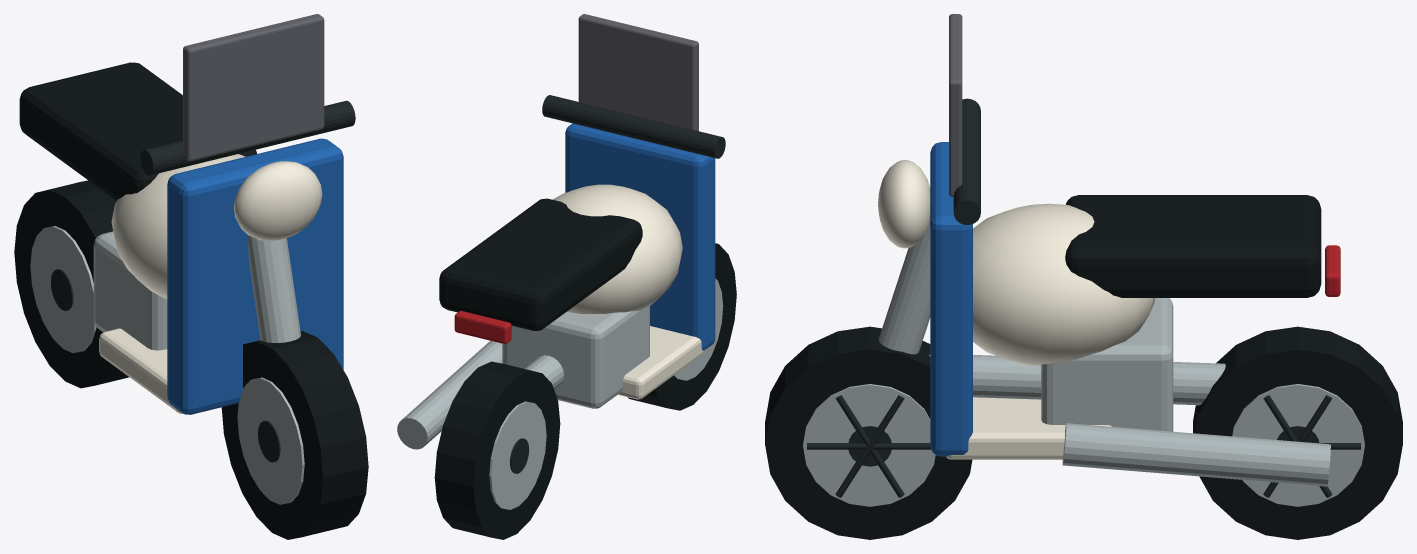
The model's file is best.glb.
3 renders of one model, left to right at view 1: azimuth 30°, elevation 25°; view 2: azimuth 150°, elevation 25°; view 3: azimuth 270°, elevation 25°, orthographic. The views are drawn at different scales.
Parts seen in each view (by area): view 1: Saddle, Scooter apron, Engine, Windshield, Footboard, Handlebar; view 2: Saddle, Engine, Scooter apron, Footboard, Windshield, Handlebar, Rear light; view 3: Saddle, Engine, Footboard, Scooter apron, Handlebar, Windshield, Rear light.
Part boxes in pixels (x1=…): Saddle: x1=14, y1=62, x2=368, y2=539; Scooter apron: x1=167, y1=138, x2=343, y2=414; Engine: x1=30, y1=226, x2=304, y2=504; Windshield: x1=183, y1=14, x2=324, y2=161; Footboard: x1=99, y1=154, x2=322, y2=413; Handlebar: x1=51, y1=100, x2=355, y2=462; Saddle: x1=434, y1=198, x2=736, y2=539; Engine: x1=397, y1=278, x2=723, y2=509; Scooter apron: x1=565, y1=123, x2=715, y2=350; Footboard: x1=552, y1=184, x2=709, y2=399; Windshield: x1=578, y1=14, x2=698, y2=131; Handlebar: x1=510, y1=95, x2=725, y2=473; Rear light: x1=454, y1=311, x2=511, y2=343; Saddle: x1=765, y1=195, x2=1402, y2=539; Engine: x1=803, y1=216, x2=1364, y2=506; Footboard: x1=878, y1=160, x2=1155, y2=459; Scooter apron: x1=930, y1=142, x2=972, y2=456; Handlebar: x1=807, y1=98, x2=1360, y2=497; Windshield: x1=949, y1=14, x2=962, y2=196; Rear light: x1=1325, y1=245, x2=1340, y2=296.
Bounding box in the file's own units: 0.3571 × 0.78 × 0.9371.
